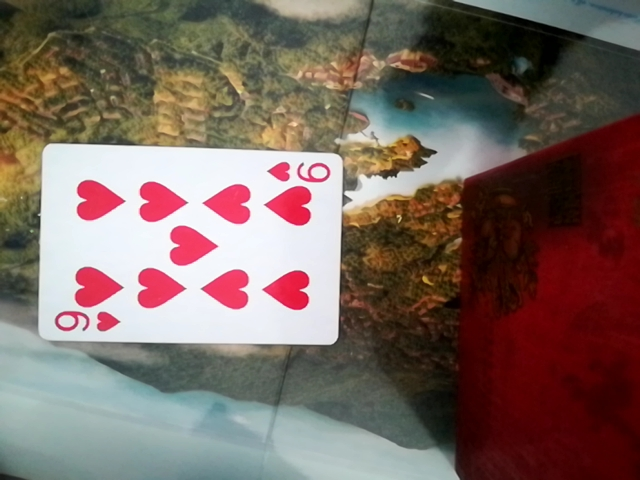hx 9: (31, 142, 341, 348)
